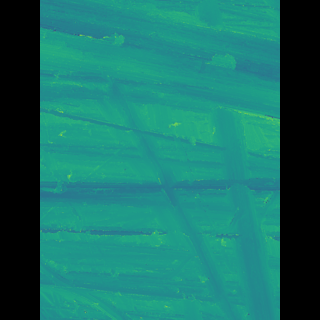Loch: (104, 75, 248, 320), (69, 0, 250, 120)
